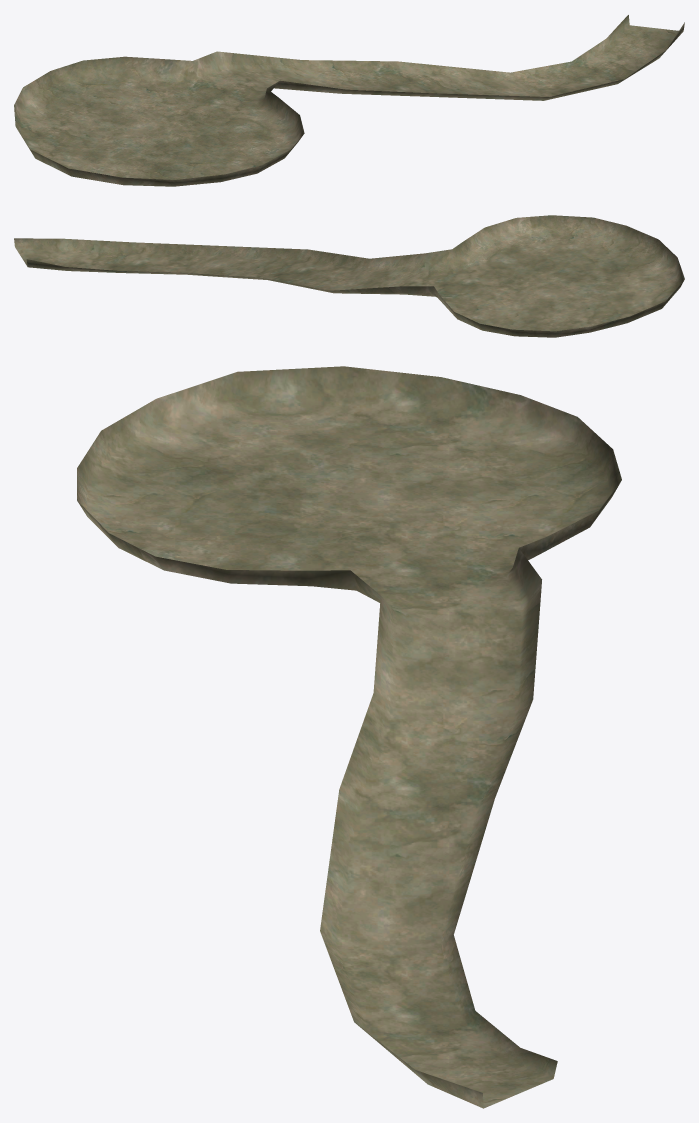
File: EKH_ENTRANCE_PS_EN_CAVE_FLOOR_114.fbx
The picture shows the model from 3 angles, top to bottom: view 1: azimuth 30°, elevation 25°; view 2: azimuth 150°, elevation 25°; view 3: azimuth 270°, elevation 25°; orthographic projection. The views are drawn at different scales.
Visible parts, largest first — view 1: EKH_ENTRANCE_PS_EN_CAVE_FLOOR_114; view 2: EKH_ENTRANCE_PS_EN_CAVE_FLOOR_114; view 3: EKH_ENTRANCE_PS_EN_CAVE_FLOOR_114.
Part boxes in pixels (box(x1,y1,x2,y2)): EKH_ENTRANCE_PS_EN_CAVE_FLOOR_114: box(14, 15, 684, 186); EKH_ENTRANCE_PS_EN_CAVE_FLOOR_114: box(14, 215, 684, 337); EKH_ENTRANCE_PS_EN_CAVE_FLOOR_114: box(77, 366, 621, 1108).
Size of the model in its own units: 261562 by 31622 by 100075.
1 material, 1 textured.
